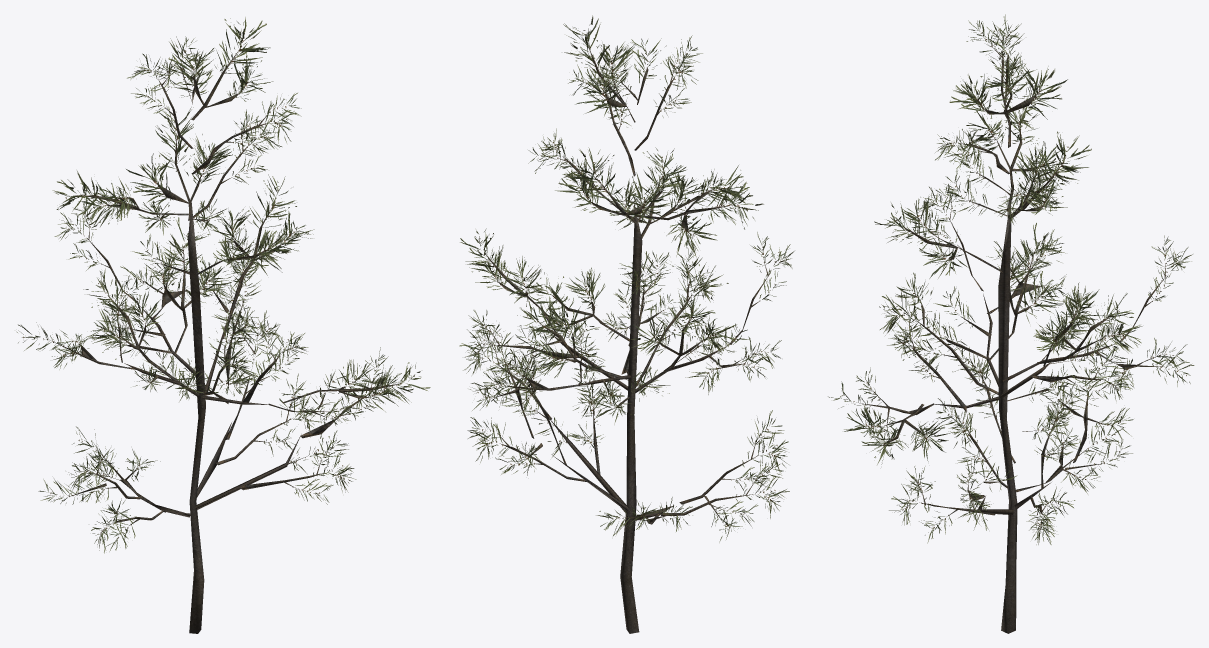
The picture shows the model from 3 angles, left to right: view 1: azimuth 30°, elevation 25°; view 2: azimuth 150°, elevation 25°; view 3: azimuth 270°, elevation 25°; orthographic projection.
Visible parts, largest first — view 1: pine_sapling_small_a; view 2: pine_sapling_small_a; view 3: pine_sapling_small_a.
Part boxes in pixels (left/top/right/bottom): pine_sapling_small_a: left=16, top=17, right=430, bottom=633; pine_sapling_small_a: left=459, top=15, right=794, bottom=633; pine_sapling_small_a: left=828, top=14, right=1194, bottom=633.
Bounding box in the file's own units: 0.7759 × 1.3 × 0.7189.
Materials: 2 (2 with a texture image).
